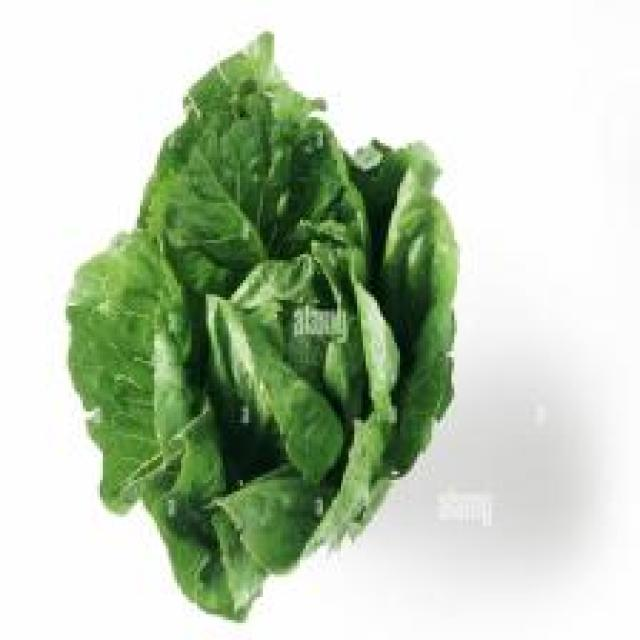Lettuce: (64, 27, 468, 627)
